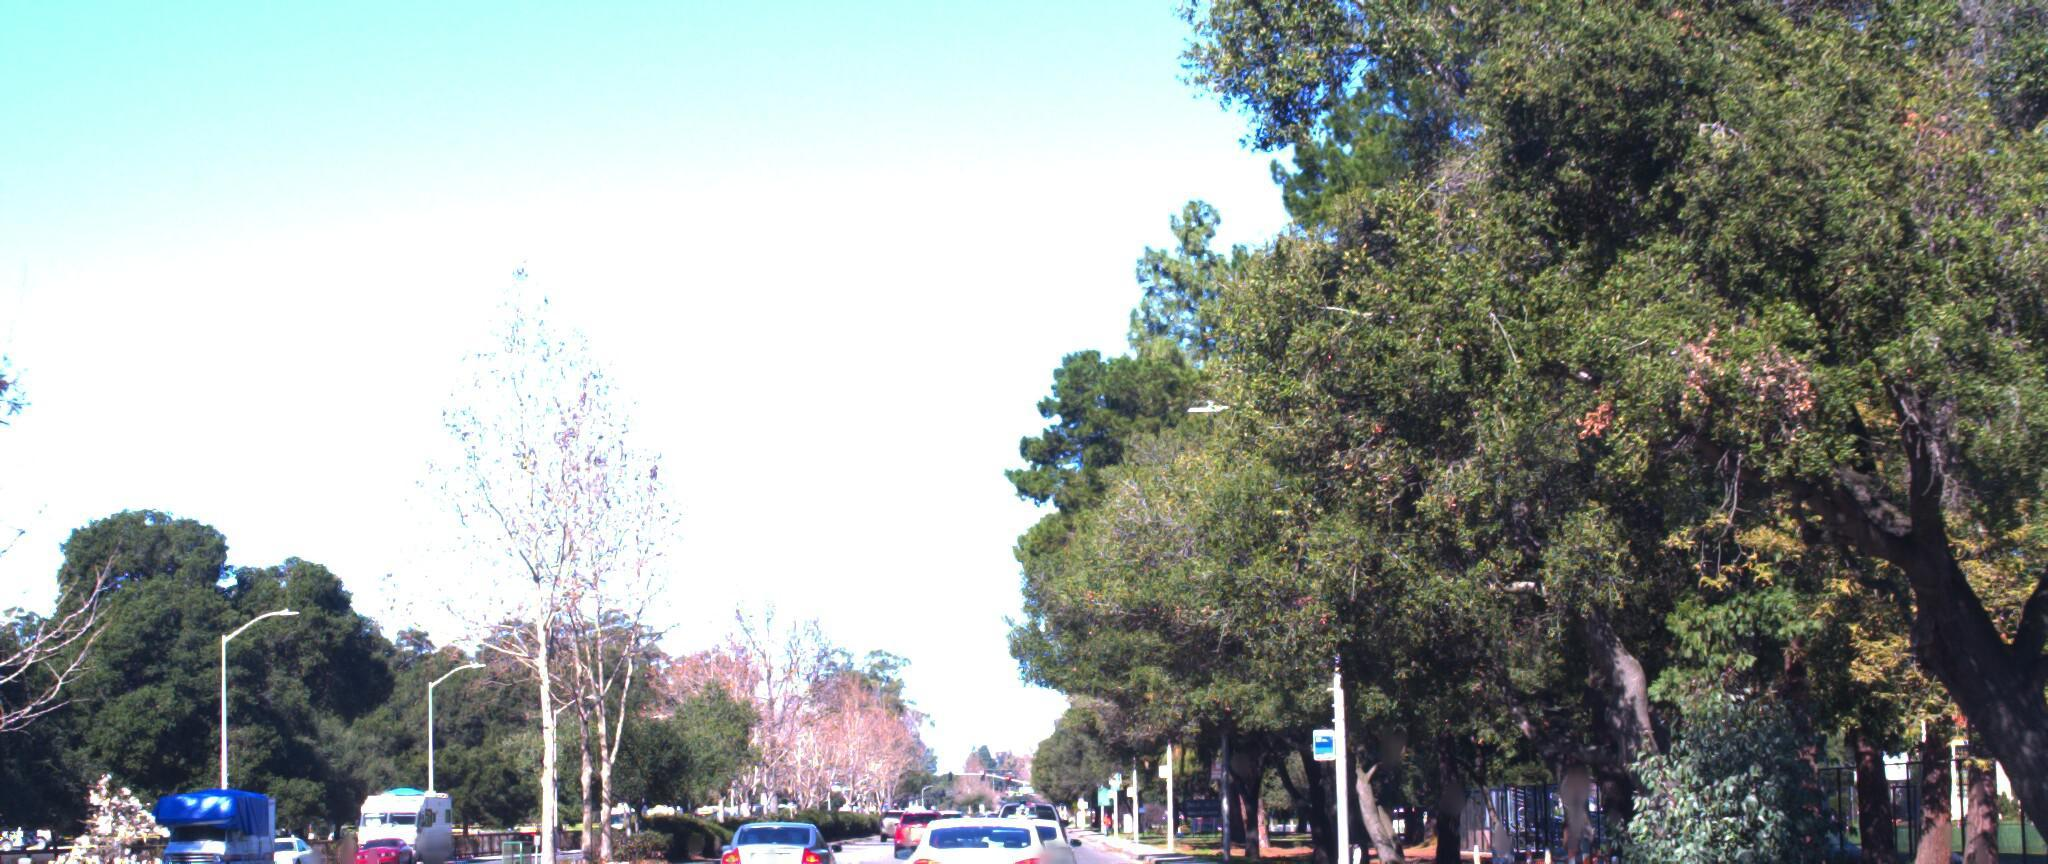car: (889, 797, 1070, 864), (718, 792, 854, 864), (960, 787, 1078, 864)
